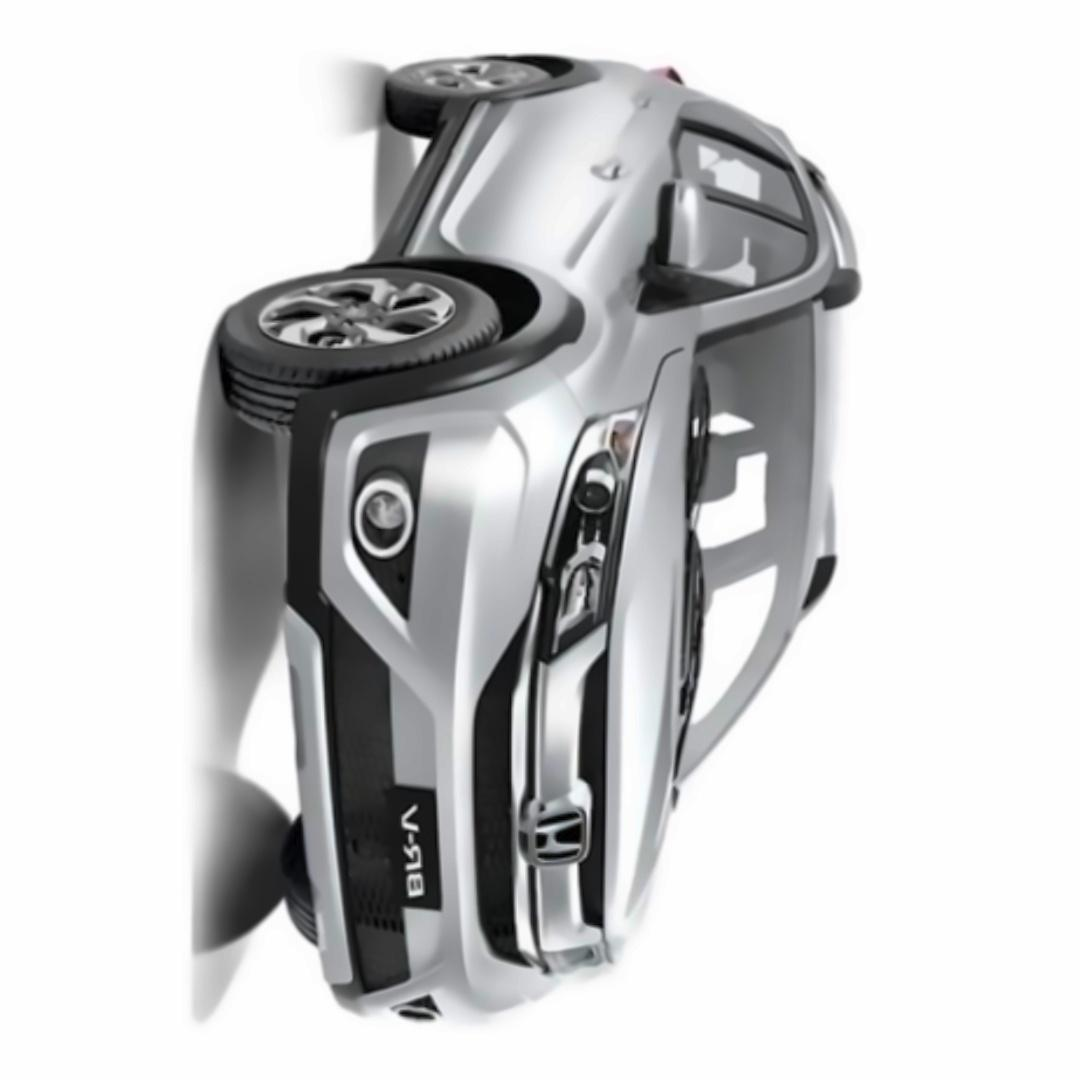Car hood: (596, 335, 722, 981)
Driver-s door - -F-R-: (362, 149, 863, 316)
Fender - -F-R-: (346, 251, 719, 409)
Front bumper: (272, 349, 589, 1025)
Headlight - -R-: (531, 399, 647, 671)
Passenger-s door - -R-R-: (415, 85, 866, 228)
Side bumper - -R-: (355, 94, 518, 263)
Side mirror - -R-: (645, 177, 706, 301)
